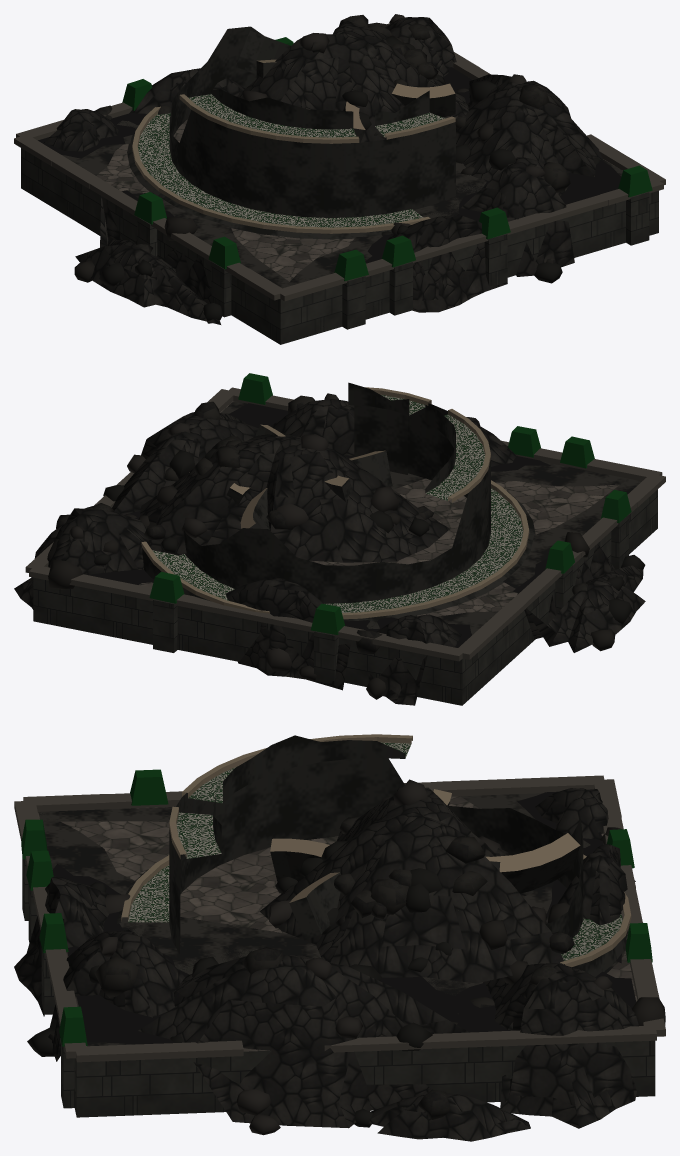
File: Tarbuild01b.glb
The picture shows the model from 3 angles, top to bottom: view 1: azimuth 30°, elevation 25°; view 2: azimuth 150°, elevation 25°; view 3: azimuth 270°, elevation 25°; orthographic projection. The views are drawn at different scales.
Parts seen in each view (by area): view 1: Tarbuild01b; view 2: Tarbuild01b; view 3: Tarbuild01b.
Boxes of the visible parts, left/top/right/bottom form: Tarbuild01b: left=14, top=14, right=665, bottom=344; Tarbuild01b: left=14, top=373, right=665, bottom=705; Tarbuild01b: left=14, top=734, right=665, bottom=1141.
Bounding box in the file's own units: 18.54 × 5.71 × 15.83.
14 materials, 7 textured.
